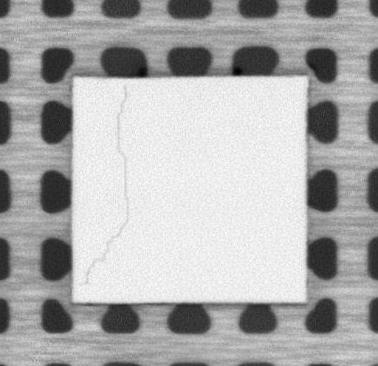DIE_CRACK: (82, 84, 131, 287)
